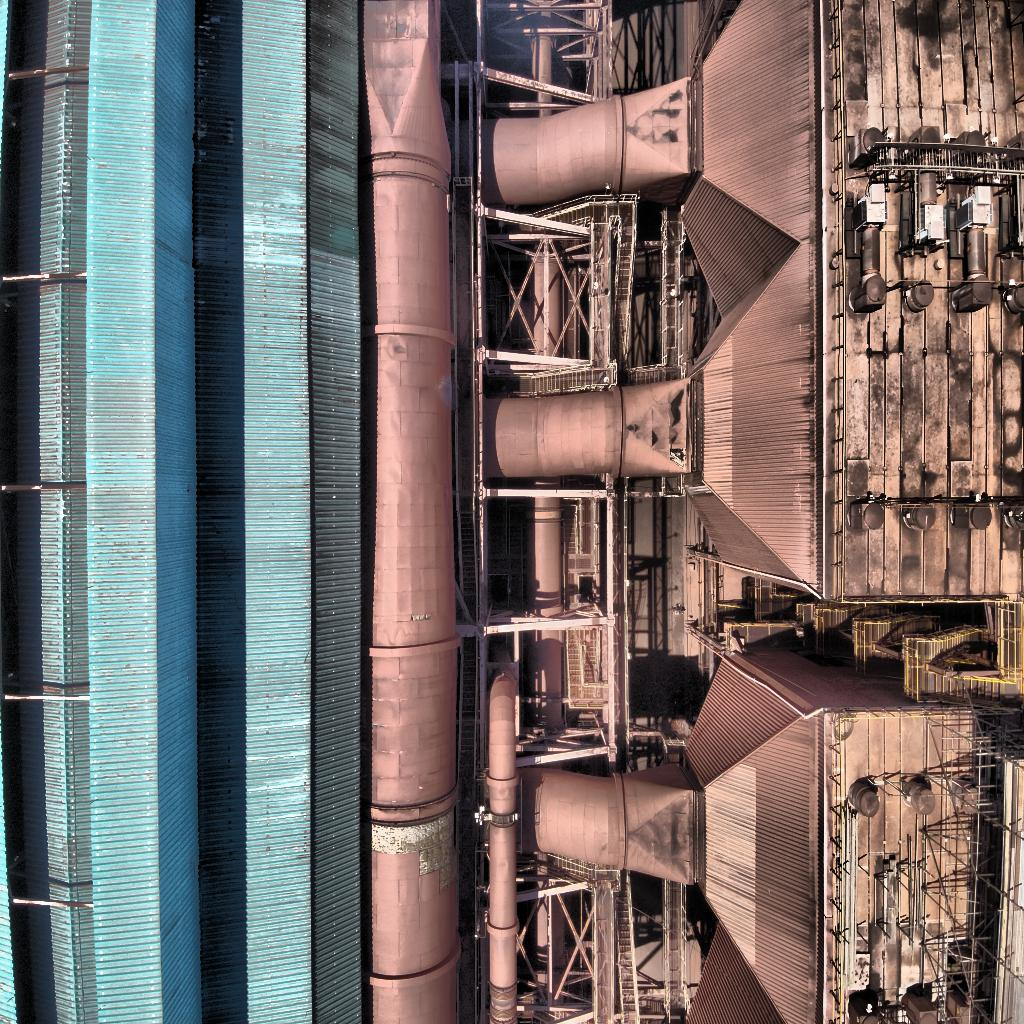Failures: (367, 817, 459, 889), (430, 179, 451, 214), (667, 442, 687, 476), (410, 610, 433, 624)
